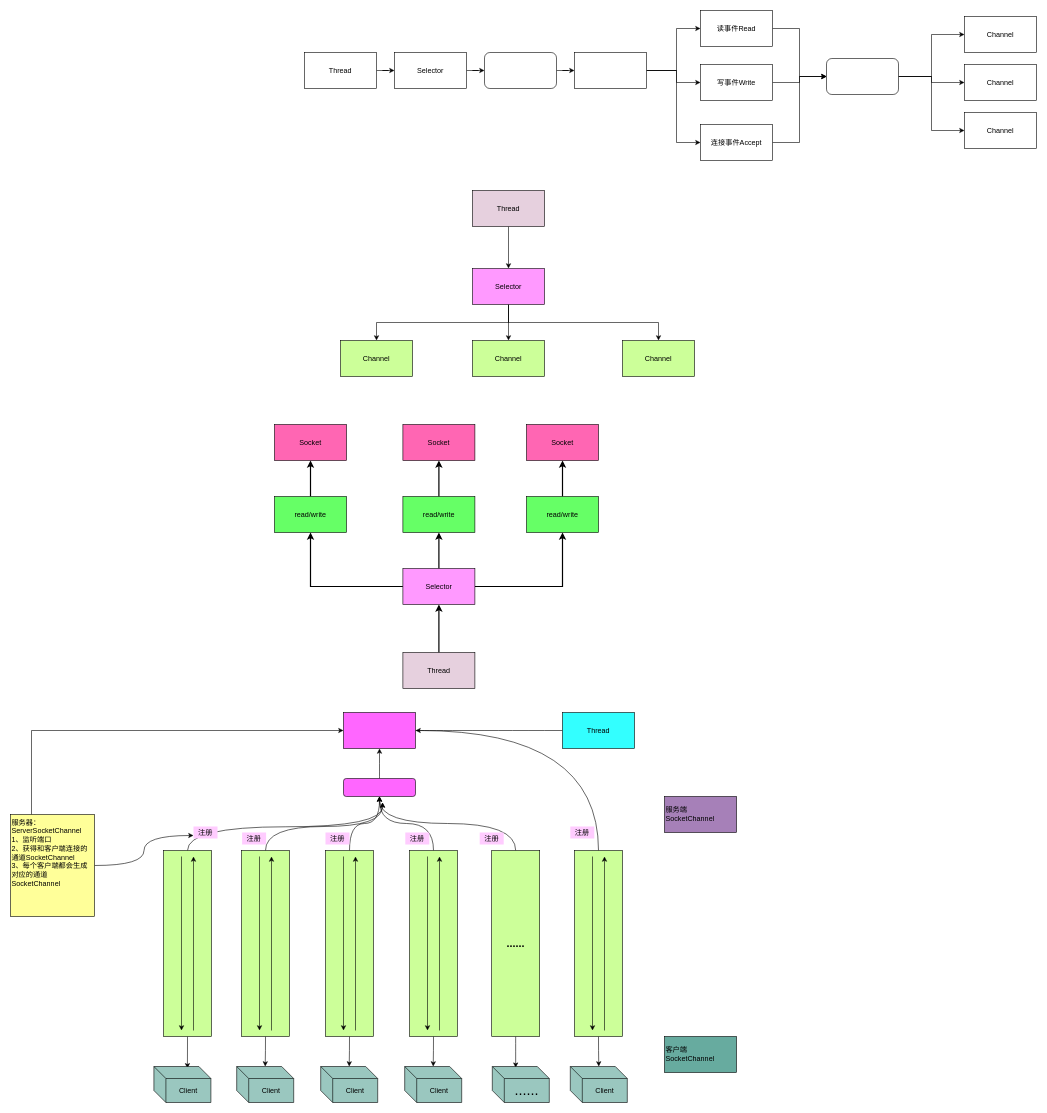
The diagram is 1047 pixels wide and 1113 high, and some of its shapes have lost their labels. The shapes that lost their labels are listed below. From the top down, each one's centre as x and y in pixels, then its label:
At pixel 520 70: "select()方法".
At pixel 610 70: "selectKeys列表".
At pixel 862 76: "根据Key选择对应的Channel".
At pixel 379 730: "Selector实例".
At pixel 379 787: "SelectKey".
